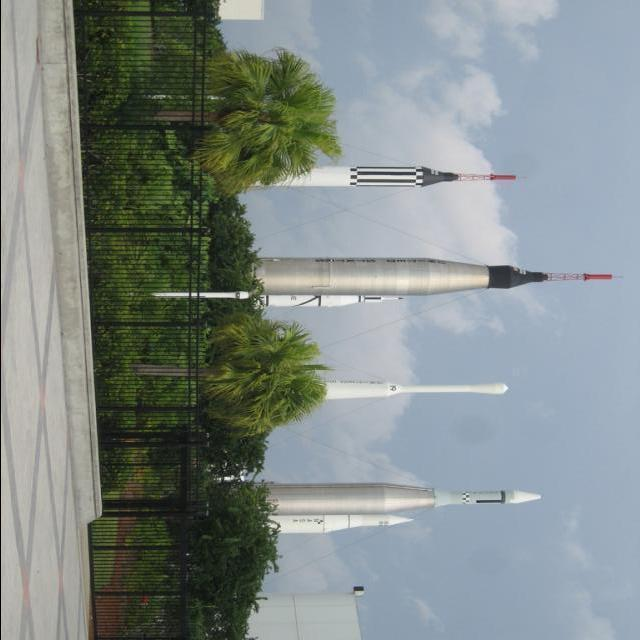missile: (243, 240, 616, 316), (217, 480, 559, 540), (253, 158, 524, 202), (284, 372, 519, 422)
